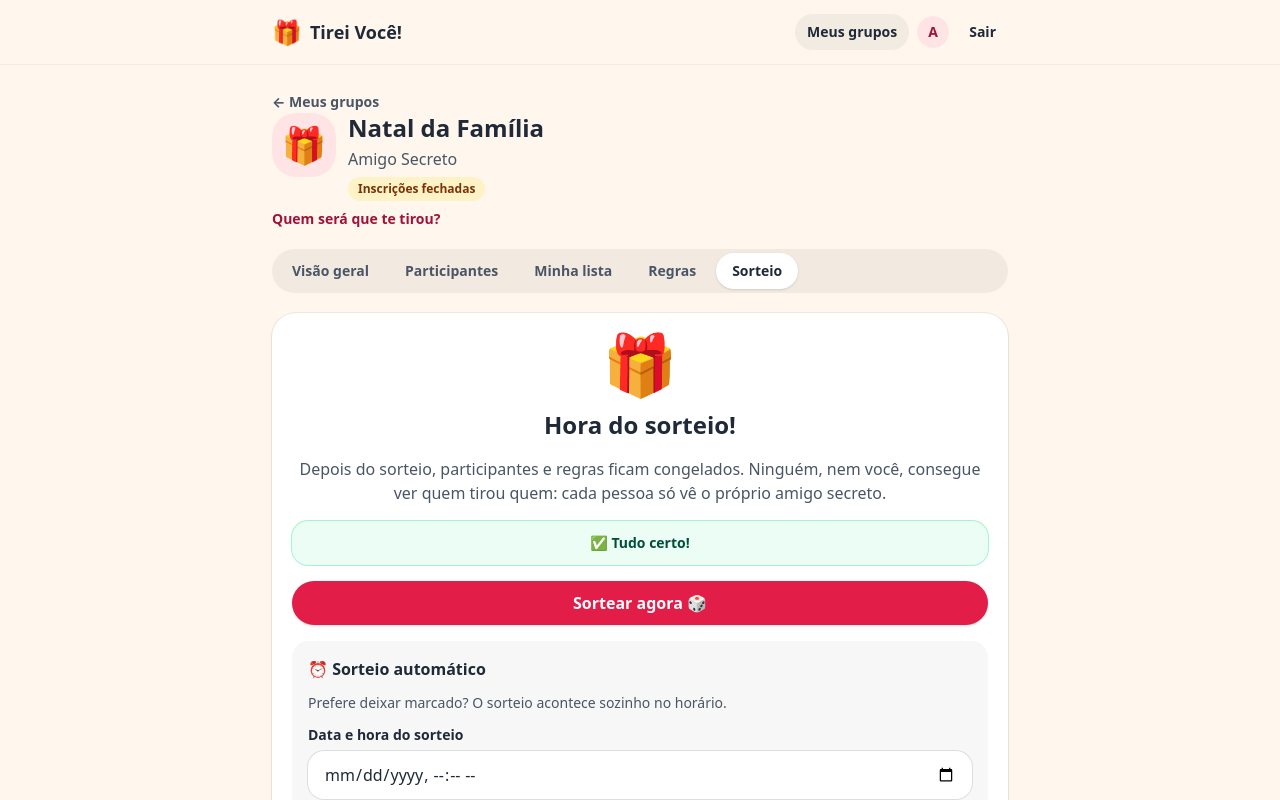
Test: organização agenda o sorteio automático
Type "2099-12-20T20:00" into the field labelled "Data e hora do sorteio". click: (640, 775)
box: [308,751,972,799]
(page scrolled)
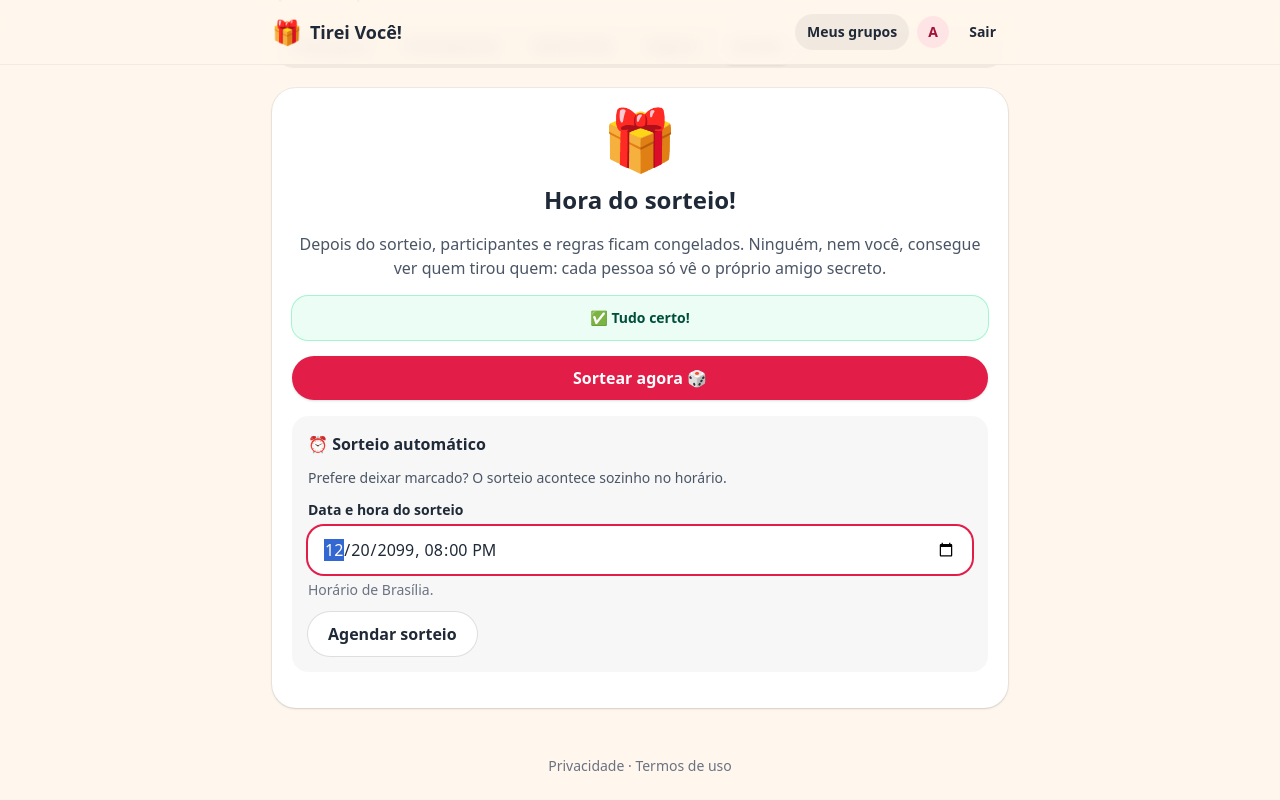
Click the button "Agendar sorteio". click: (392, 634)
box: [308,612,477,656]
(page scrolled)
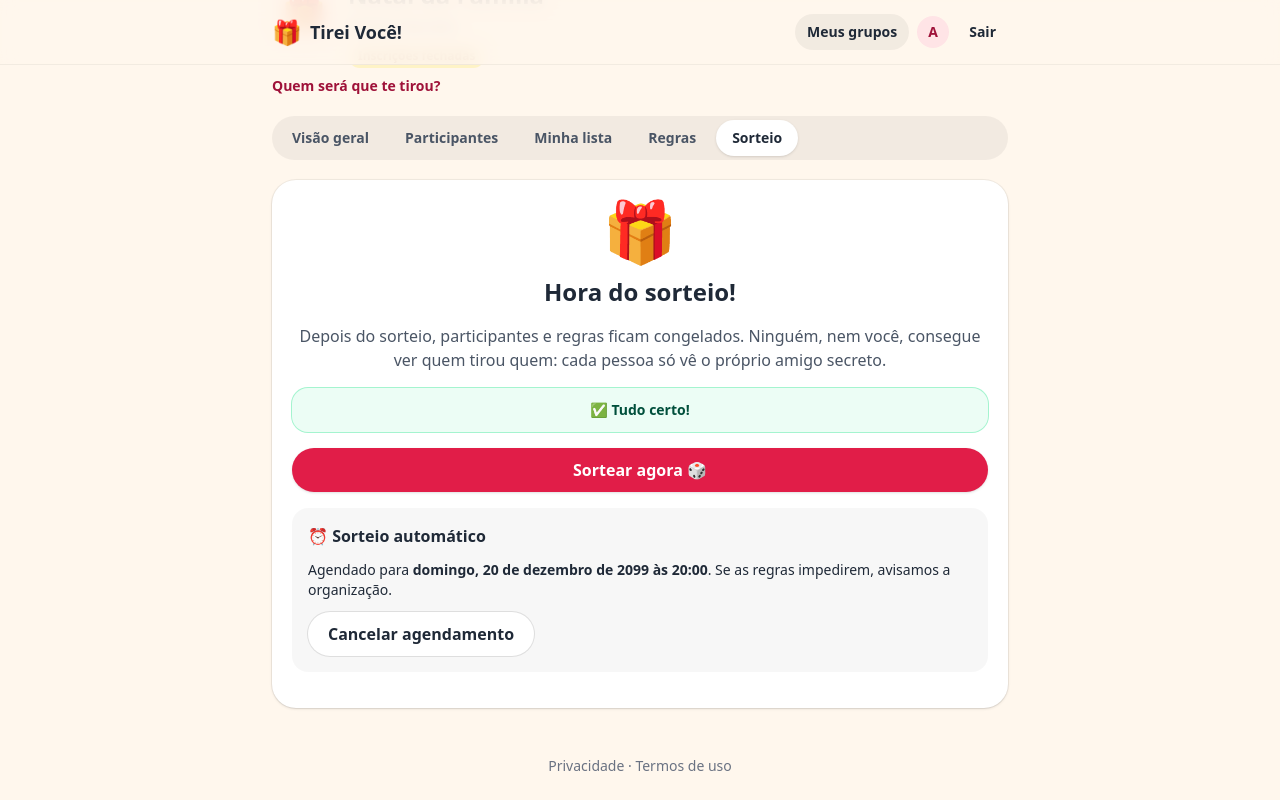
Expected: the text "Agendado para" is shown, [308,560,413,579]
